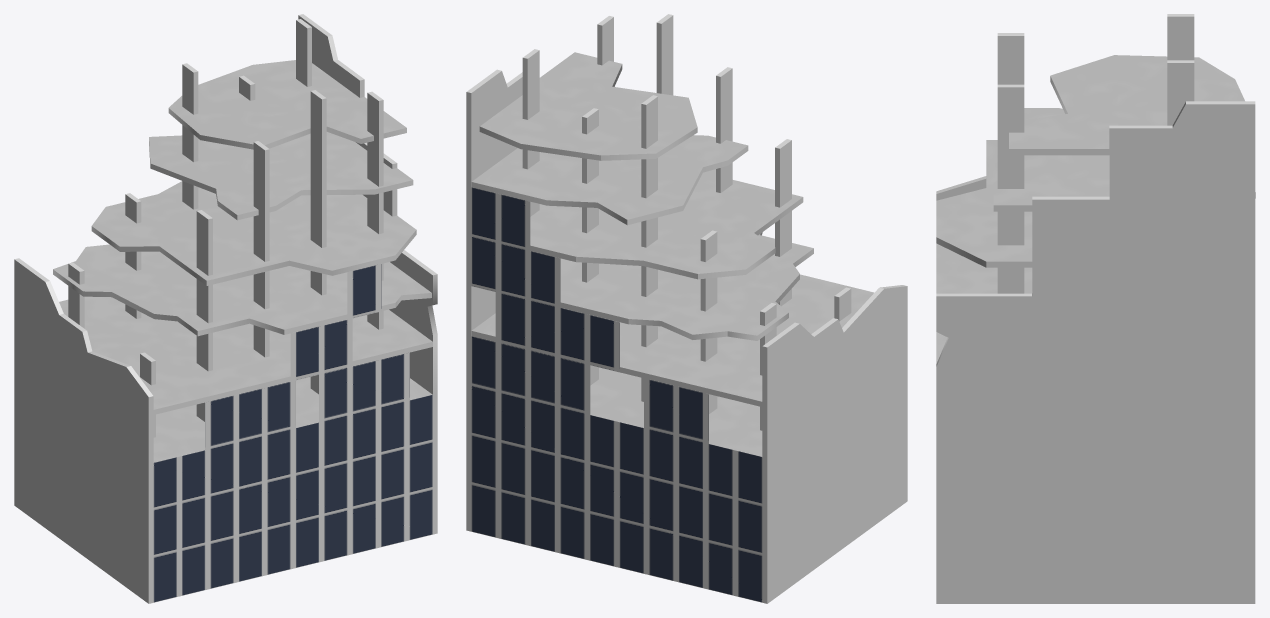
File: Building_DT_M_W1_001.fbx
3 views of the same model, side by side, from view 1: azimuth 30°, elevation 25°; view 2: azimuth 150°, elevation 25°; view 3: azimuth 270°, elevation 25° (orthographic). The views are drawn at different scales.
Parts seen in each view (by area): view 1: Building_DT_M_W1_001; view 2: Building_DT_M_W1_001; view 3: Building_DT_M_W1_001.
Part boxes in pixels (x1=…): Building_DT_M_W1_001: x1=14, y1=14, x2=437, y2=603; Building_DT_M_W1_001: x1=466, y1=14, x2=907, y2=603; Building_DT_M_W1_001: x1=936, y1=14, x2=1255, y2=603.
Size of the model in its own units: 27.98 by 40.91 by 22.58.
